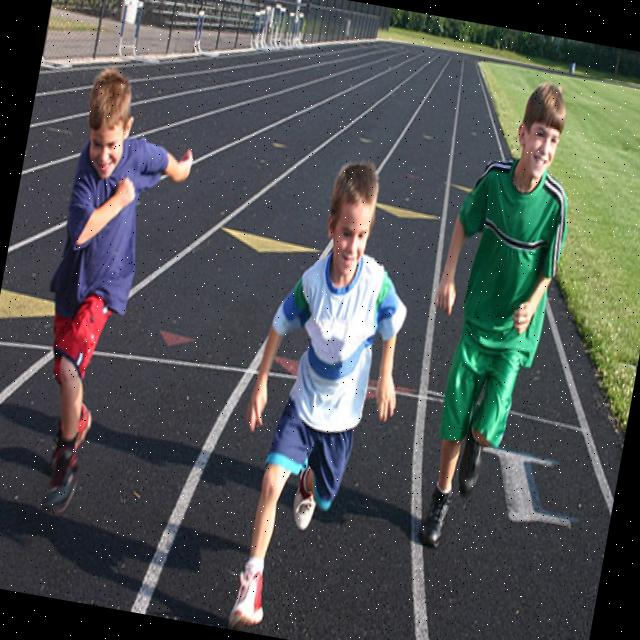Person: (210, 148, 437, 640), (392, 72, 592, 560), (13, 65, 206, 528)
